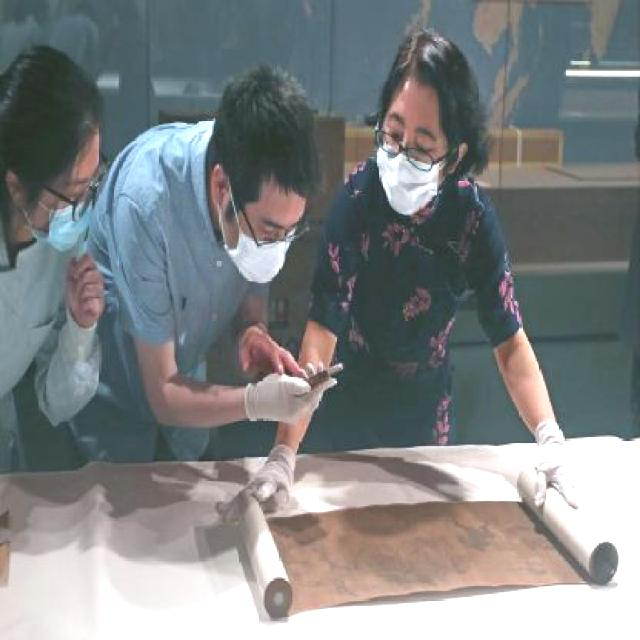face_mask: (214, 172, 311, 285), (376, 88, 456, 217)
face_nomask: (37, 143, 103, 260)
glasses: (370, 126, 441, 172), (66, 169, 114, 226), (252, 224, 314, 253)
hand_glove: (252, 360, 337, 425), (532, 437, 580, 517), (217, 468, 295, 515)
hand_noglove: (239, 325, 306, 377), (65, 252, 109, 328)
head_nohelmet: (238, 74, 332, 204), (370, 25, 472, 106), (34, 62, 104, 162)
person: (303, 22, 540, 483), (100, 68, 343, 455), (0, 50, 126, 468)
